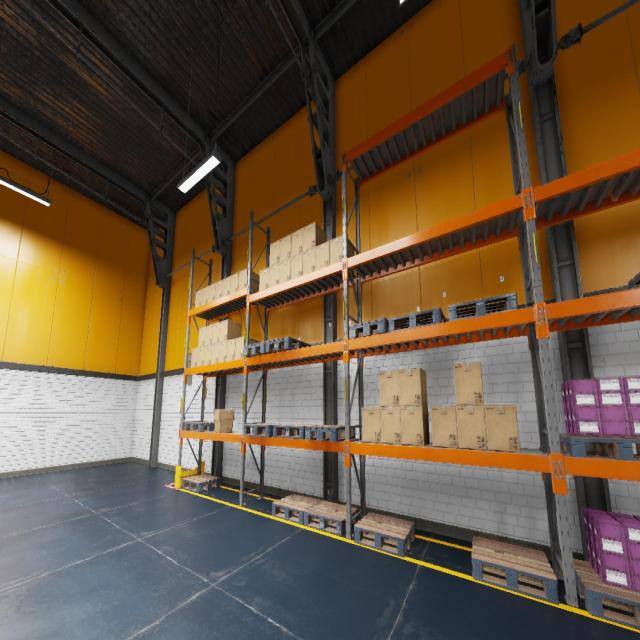box: (484, 404, 520, 452), (456, 405, 487, 450), (453, 361, 484, 405), (400, 406, 430, 446), (431, 405, 458, 448), (399, 367, 427, 406), (330, 235, 354, 273), (380, 406, 402, 444), (379, 369, 400, 406), (303, 221, 327, 252), (362, 407, 381, 442), (235, 336, 258, 359), (219, 319, 242, 342), (238, 268, 259, 291), (213, 410, 234, 432), (316, 240, 329, 270), (291, 228, 303, 256), (303, 247, 315, 274), (280, 233, 291, 262), (290, 253, 302, 279), (269, 239, 280, 267), (279, 258, 291, 283), (269, 262, 279, 287), (259, 267, 269, 291), (226, 338, 235, 361), (218, 341, 227, 362), (211, 342, 219, 364), (212, 322, 220, 344), (230, 272, 238, 293), (222, 276, 230, 296), (205, 324, 212, 346), (190, 348, 198, 367), (194, 289, 202, 308), (204, 344, 211, 365), (197, 346, 204, 366), (198, 327, 205, 347), (215, 279, 222, 299), (208, 283, 215, 302), (201, 286, 208, 305)
pallets: (472, 536, 560, 604), (573, 558, 640, 630), (354, 513, 415, 557), (559, 433, 640, 461), (448, 292, 518, 321), (304, 501, 358, 536), (388, 307, 447, 332), (272, 494, 321, 524), (349, 318, 388, 339), (305, 425, 355, 441), (266, 336, 310, 353), (182, 474, 220, 493), (273, 424, 321, 438), (243, 341, 284, 357), (243, 423, 289, 437), (184, 422, 214, 431), (628, 273, 640, 289)
